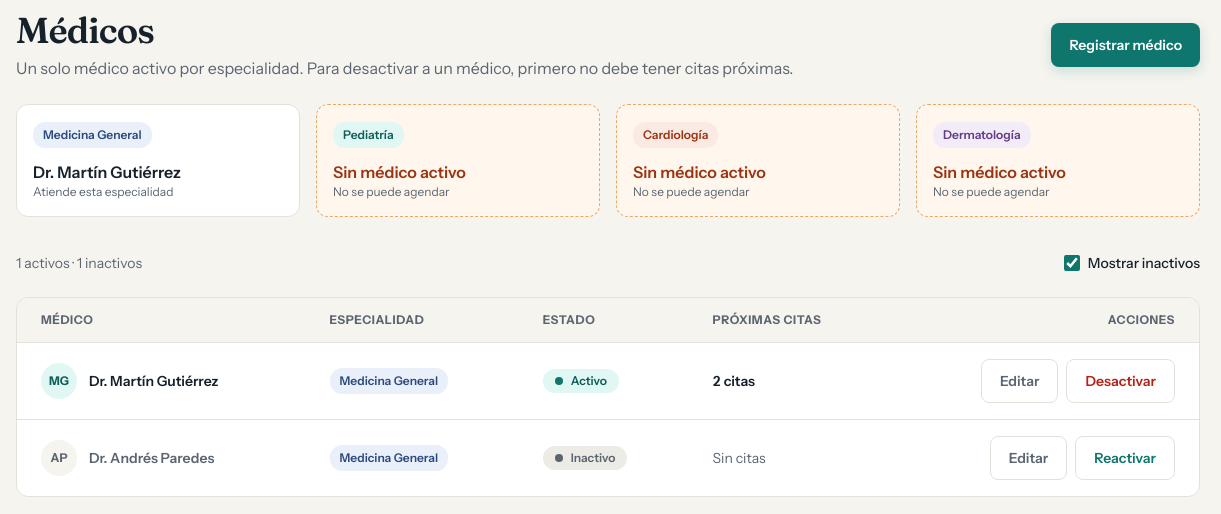
Test: MedicosPage › hides inactive doctors when the filter is unchecked
Expected: the text "Dr. Andrés Paredes" is shown, [89,448,214,468]
Click the checkbox labelled "Mostrar inactivos" at (1072, 263), box [1064,255,1080,271]
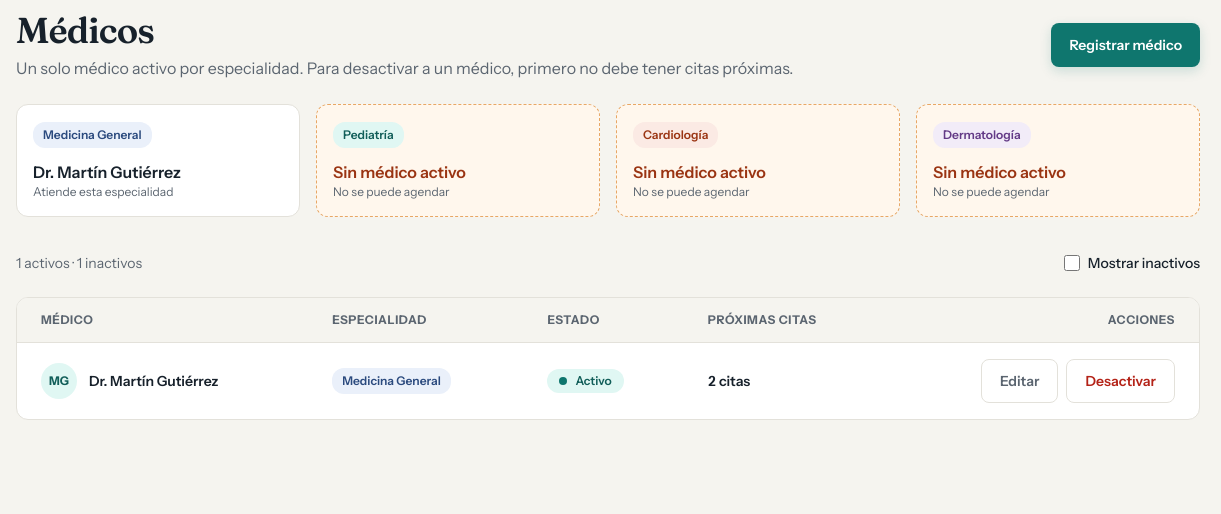
Expected: the text "Dr. Andrés Paredes" is gone
